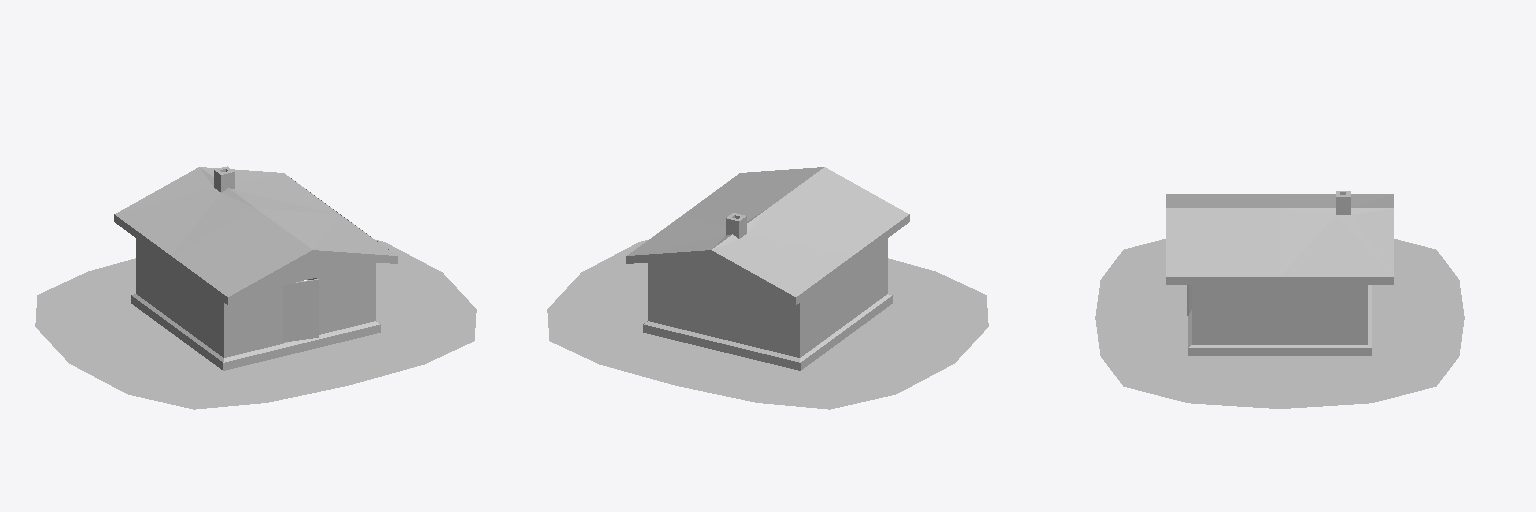
The model's file is barn.obj.
The picture shows the model from 3 angles: view 1: azimuth 30°, elevation 25°; view 2: azimuth 150°, elevation 25°; view 3: azimuth 270°, elevation 25°; orthographic projection.
Visible parts, largest first — view 1: Cube; view 2: Cube; view 3: Cube.
Boxes of the visible parts, <box> form: Cube: <box>35,166,476,409</box>; Cube: <box>547,167,988,409</box>; Cube: <box>1095,191,1464,408</box>.
Bounding box in the file's own units: 4.93 × 1.57 × 4.22.